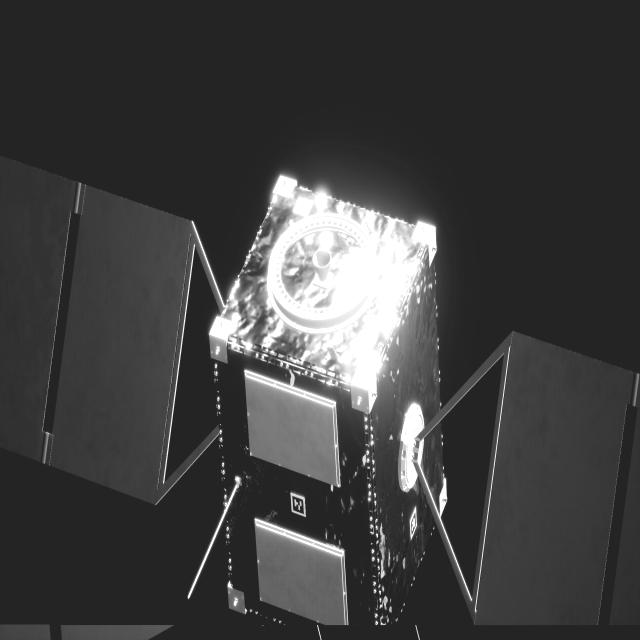medium_debris: (0, 155, 640, 630)
